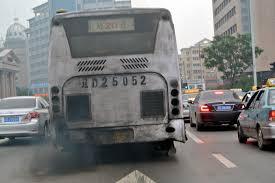smoke: (22, 139, 108, 179)
